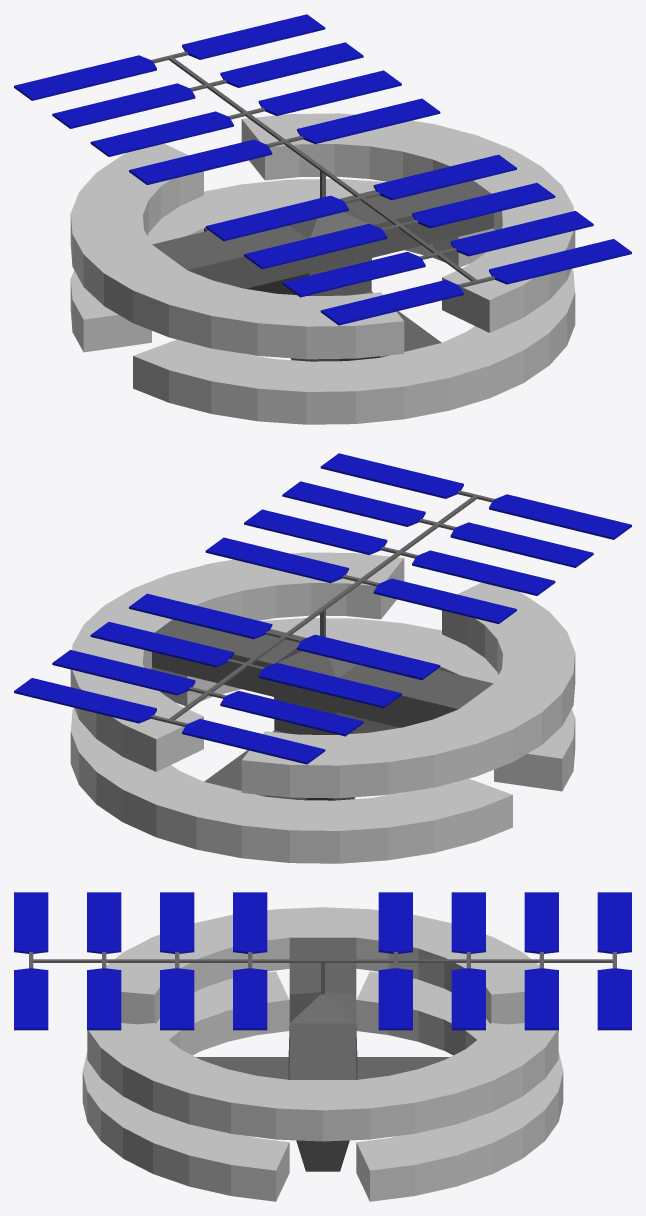
File: spacestation.fbx
3 views of the same model, one above another, from view 1: azimuth 30°, elevation 25°; view 2: azimuth 150°, elevation 25°; view 3: azimuth 270°, elevation 25° (orthographic). The views are drawn at different scales.
Parts seen in each view (by area): view 1: Cube; view 2: Cube; view 3: Cube.
Boxes of the visible parts, bbox=[...] form: Cube: bbox=[14, 14, 631, 424]; Cube: bbox=[14, 453, 631, 863]; Cube: bbox=[14, 892, 631, 1201].
Size of the model in its own units: 56 by 26.25 by 71.99.
